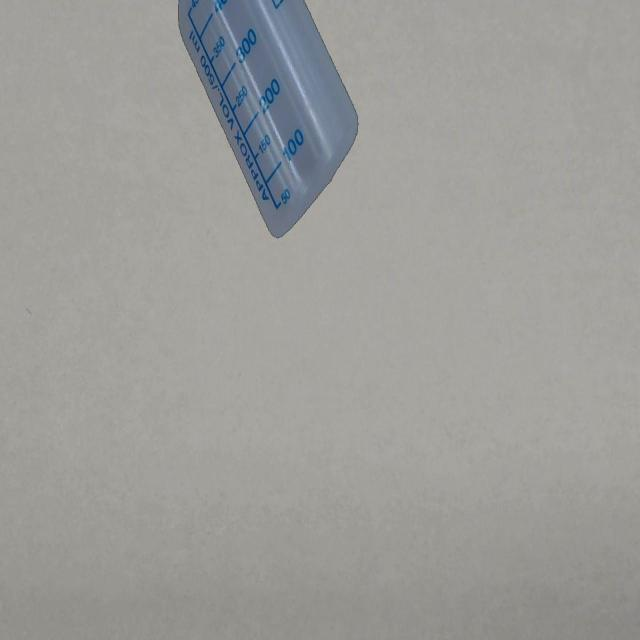bottle: (175, 0, 361, 246)
